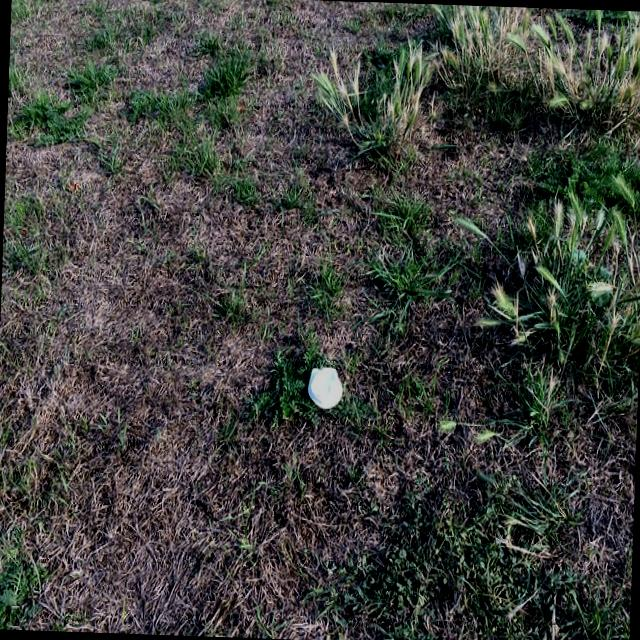Trash: (302, 362, 346, 407)
